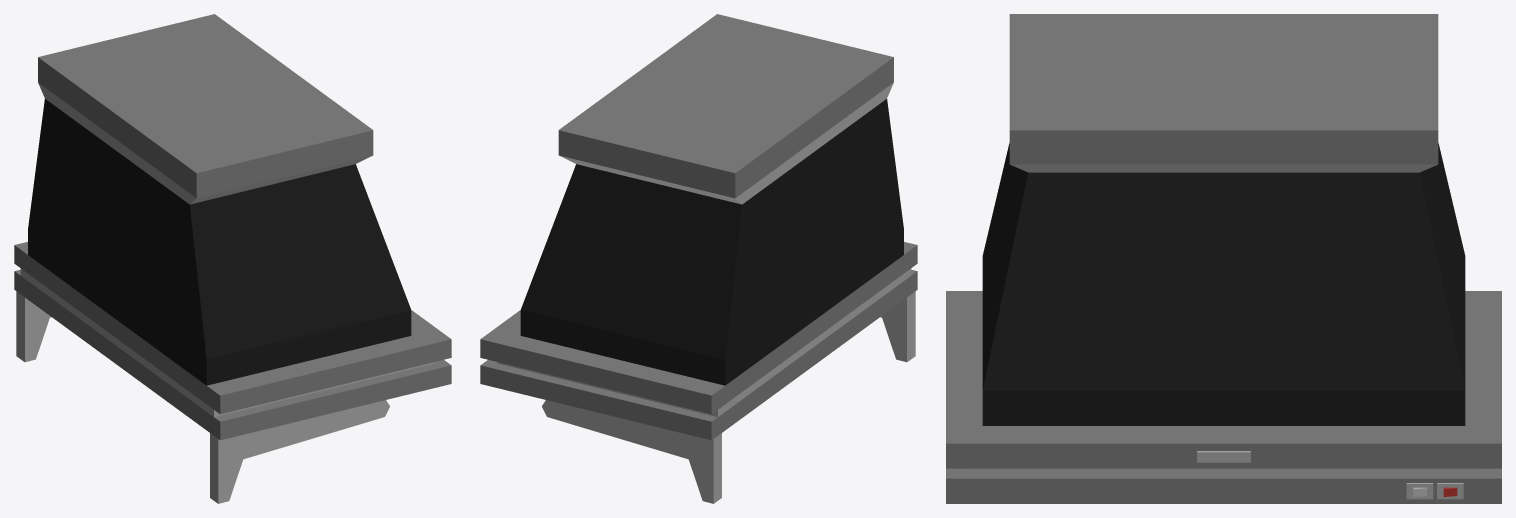
Rendered from SM_kitchenHood.glb.
The picture shows the model from 3 angles, left to right: view 1: azimuth 30°, elevation 25°; view 2: azimuth 150°, elevation 25°; view 3: azimuth 270°, elevation 25°; orthographic projection. The views are drawn at different scales.
Parts seen in each view (by area): view 1: SM_kitchenHood; view 2: SM_kitchenHood; view 3: SM_kitchenHood.
Part boxes in pixels (<box>): SM_kitchenHood: <box>14,14,451,503</box>; SM_kitchenHood: <box>480,14,917,503</box>; SM_kitchenHood: <box>946,14,1501,503</box>.
Size of the model in its own units: 0.6608 by 0.8442 by 1.
1 material, 1 textured.
